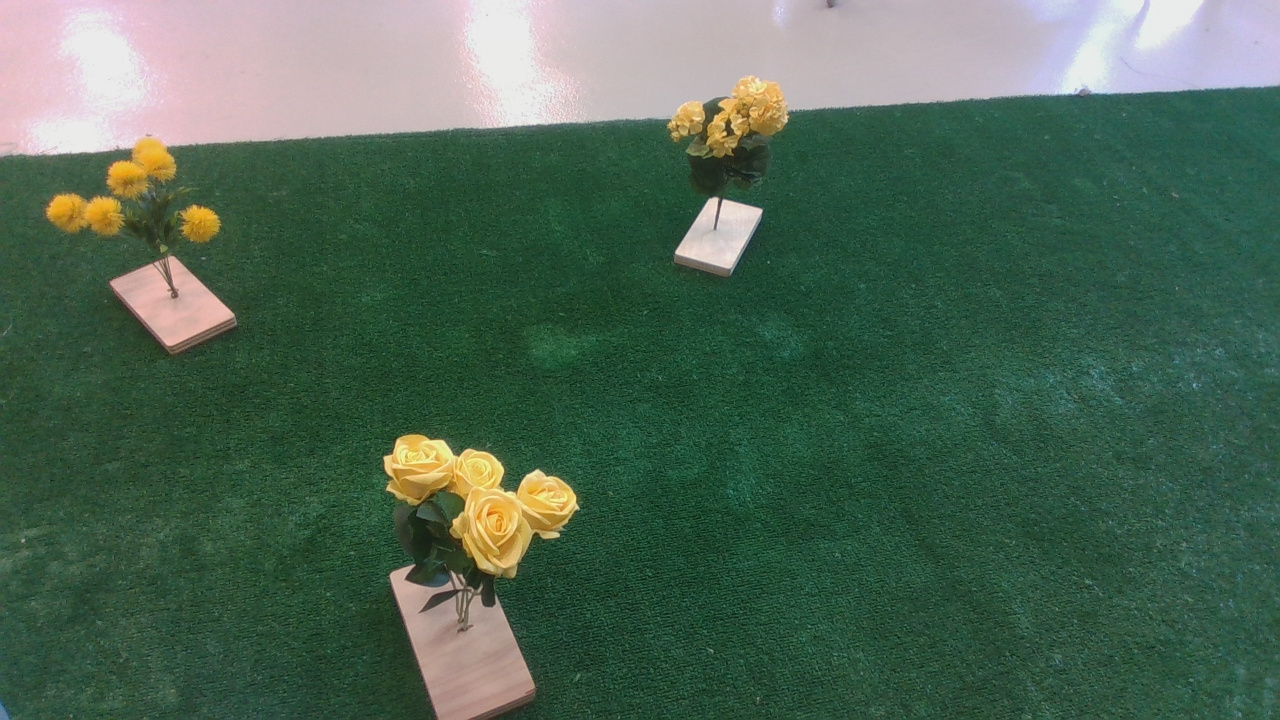dandelion: (39, 131, 263, 265)
geranium: (665, 70, 799, 220)
rose: (366, 433, 594, 613)
